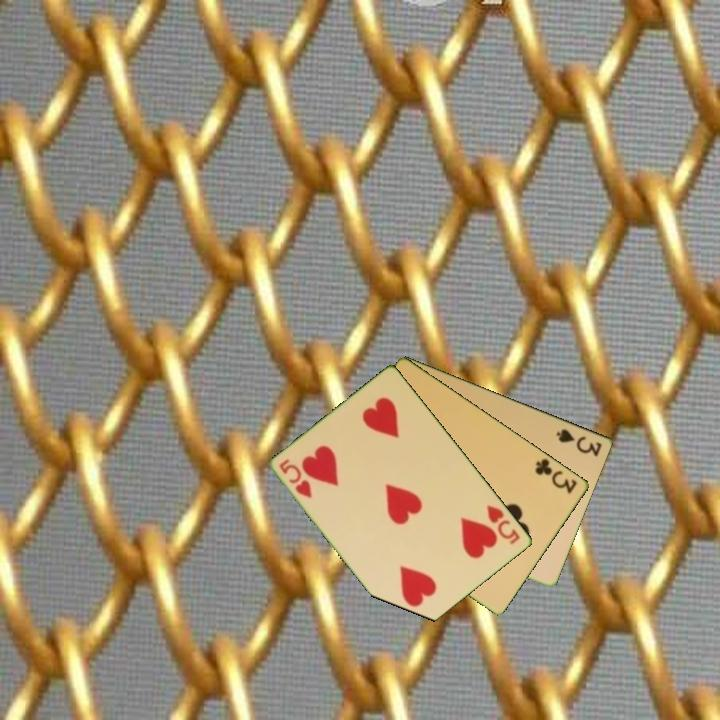3c: (532, 455, 580, 497)
3s: (553, 425, 605, 459)
5h: (483, 501, 523, 547), (276, 455, 315, 501)
